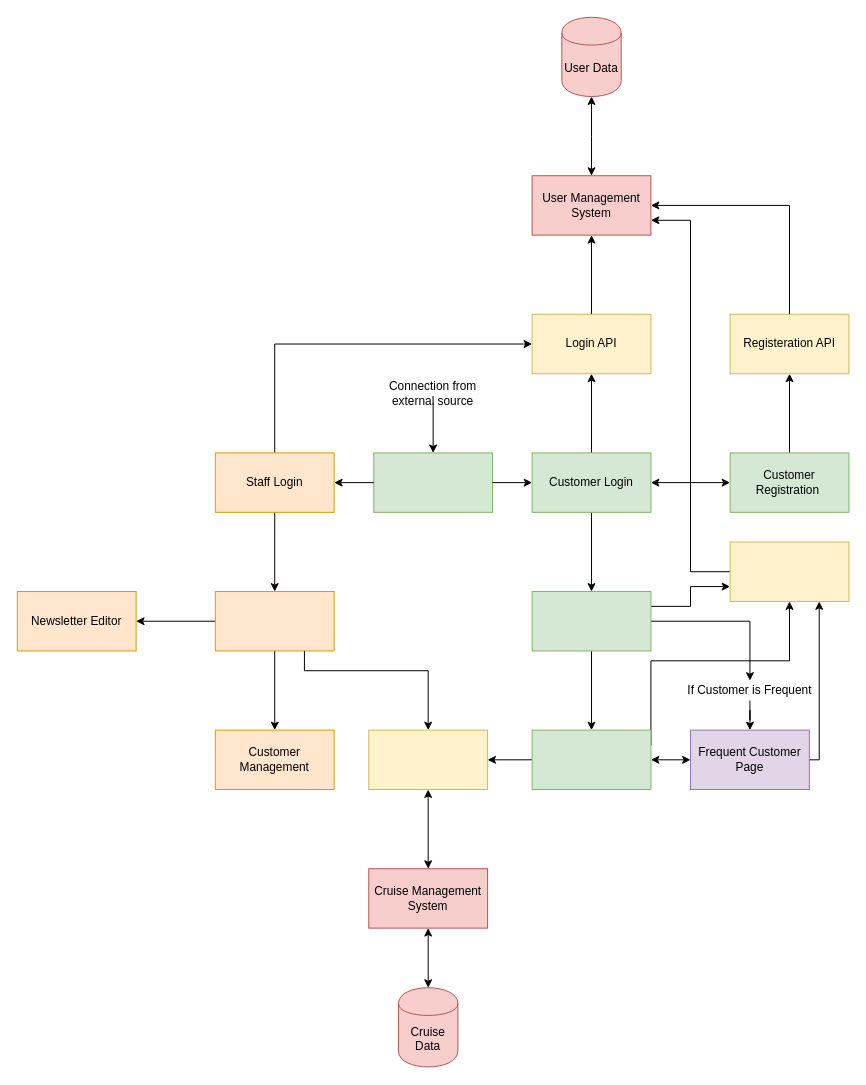
Some shapes in this 866 by 1085 pixel diagram are drawn without their labels. Each missing label, with the centre of its shape:
"Cruise API" goes at (428,759).
"Customer Data API" goes at (789,571).
"Customer Homepage" goes at (591,621).
"Home page" goes at (433,482).
"Sales Page" goes at (591,759).
"Staff Home / Cruise Stats" goes at (274,621).
